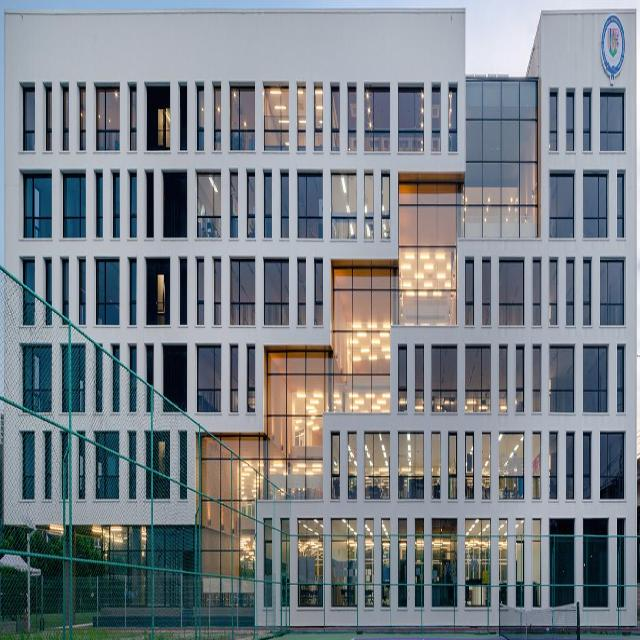Railing: (431, 584, 456, 608), (23, 216, 50, 237), (331, 584, 356, 606), (298, 584, 322, 606), (463, 390, 489, 410), (548, 391, 574, 411), (548, 216, 574, 236), (464, 584, 489, 604), (498, 305, 523, 325), (498, 477, 523, 497), (582, 392, 607, 412), (582, 217, 607, 237), (364, 479, 390, 498), (230, 129, 254, 149), (197, 217, 221, 237), (297, 216, 321, 236), (196, 390, 220, 410), (330, 217, 355, 236), (364, 132, 389, 151), (96, 129, 118, 150), (599, 305, 622, 325), (231, 306, 255, 325), (398, 478, 422, 497), (62, 217, 84, 237), (265, 306, 288, 325), (431, 390, 454, 409), (398, 132, 422, 150), (600, 478, 622, 496), (22, 130, 33, 151), (530, 476, 540, 497), (582, 474, 592, 495), (481, 475, 489, 500), (397, 584, 406, 606), (448, 475, 456, 499), (430, 474, 438, 498), (464, 476, 472, 500), (514, 389, 523, 410), (397, 388, 406, 409), (364, 584, 372, 607), (531, 306, 540, 326), (564, 475, 573, 495), (414, 584, 422, 606), (481, 304, 489, 326), (363, 219, 372, 238), (414, 390, 422, 411), (297, 304, 305, 325), (232, 391, 240, 411), (548, 304, 556, 324), (582, 304, 590, 324), (548, 479, 556, 499), (314, 303, 322, 323), (381, 584, 388, 606), (347, 131, 355, 150), (330, 131, 338, 150), (230, 391, 238, 410), (212, 304, 220, 323), (464, 304, 472, 323), (548, 129, 556, 148), (247, 218, 255, 237), (331, 477, 338, 498), (348, 478, 355, 498), (196, 304, 203, 324), (532, 392, 539, 412), (497, 390, 504, 410), (565, 306, 572, 326), (248, 391, 255, 411), (381, 219, 389, 236), (432, 132, 439, 151), (230, 218, 237, 236), (129, 130, 135, 150), (62, 130, 67, 150), (46, 129, 50, 150), (80, 130, 84, 150)
wall: (3, 11, 636, 627)
windows: (99, 76, 537, 606), (582, 520, 606, 608), (549, 517, 572, 606), (22, 348, 50, 411), (330, 517, 356, 582), (262, 86, 288, 150), (463, 516, 489, 580), (297, 519, 322, 584), (598, 88, 624, 148), (431, 518, 456, 580), (95, 260, 118, 324), (95, 434, 118, 498), (61, 348, 84, 411), (23, 172, 51, 215), (296, 172, 322, 217), (197, 346, 221, 391), (230, 259, 254, 303), (230, 259, 254, 303), (196, 174, 221, 216), (264, 261, 287, 306), (364, 89, 388, 132), (396, 432, 421, 473), (364, 434, 388, 476), (231, 85, 254, 128), (330, 174, 354, 215), (432, 348, 456, 389), (464, 347, 488, 388), (548, 347, 572, 388), (498, 259, 522, 300), (599, 261, 623, 302), (582, 175, 606, 216), (397, 89, 421, 129), (583, 348, 607, 388), (498, 434, 522, 474), (600, 434, 624, 474), (550, 172, 574, 212), (62, 172, 84, 215), (96, 88, 118, 128), (96, 88, 118, 128), (497, 518, 507, 606), (514, 518, 524, 606), (532, 520, 542, 608), (21, 434, 33, 498), (263, 518, 271, 607), (280, 520, 288, 607), (179, 256, 188, 330), (23, 260, 33, 323), (617, 516, 624, 605), (397, 517, 406, 581), (364, 518, 373, 582), (263, 172, 271, 237), (414, 518, 422, 582), (449, 87, 457, 151), (296, 86, 304, 148), (180, 428, 187, 498), (280, 175, 288, 236), (146, 348, 154, 409), (380, 520, 388, 580), (564, 91, 572, 150), (582, 93, 590, 150), (196, 87, 203, 150), (213, 85, 220, 148), (616, 345, 623, 408), (616, 173, 623, 235), (23, 88, 33, 130), (23, 88, 33, 130), (23, 88, 33, 130), (147, 171, 153, 239), (363, 172, 372, 216), (380, 173, 389, 217), (129, 174, 135, 237), (78, 261, 84, 324), (60, 434, 66, 497), (78, 435, 84, 498), (314, 86, 320, 149), (431, 89, 440, 131), (346, 87, 356, 123), (180, 88, 186, 148), (213, 259, 221, 303), (531, 259, 539, 303), (550, 260, 558, 304), (582, 259, 590, 303), (314, 259, 322, 302), (348, 433, 356, 476), (565, 261, 573, 304), (247, 172, 255, 214), (498, 348, 506, 390), (532, 435, 540, 477), (464, 260, 472, 302), (481, 433, 489, 475), (582, 432, 590, 474), (196, 257, 203, 304), (414, 348, 422, 389), (431, 433, 439, 474), (231, 342, 238, 388), (130, 261, 135, 325), (62, 260, 67, 324), (45, 260, 50, 324), (129, 345, 134, 409), (112, 346, 117, 410), (96, 349, 101, 413), (44, 434, 49, 498), (96, 349, 101, 413), (96, 173, 101, 236), (96, 173, 101, 236), (129, 434, 134, 497), (515, 349, 523, 388), (464, 435, 472, 474), (565, 434, 573, 473), (231, 173, 238, 217), (248, 344, 255, 388), (331, 434, 338, 477), (113, 176, 118, 236), (297, 260, 304, 302), (332, 83, 338, 129), (398, 349, 405, 388), (448, 434, 455, 473), (532, 349, 539, 388), (481, 261, 488, 299), (549, 434, 556, 472), (549, 92, 556, 128), (79, 90, 85, 129), (45, 86, 50, 128), (62, 87, 67, 128)
